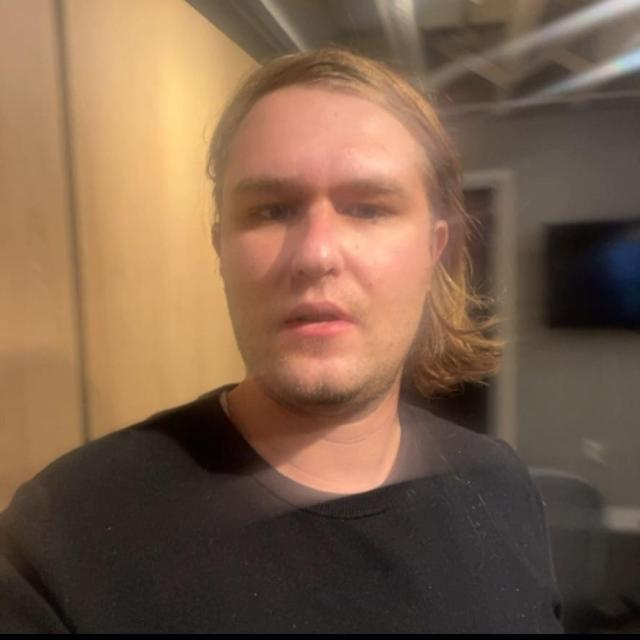no hat: (183, 8, 518, 506)
